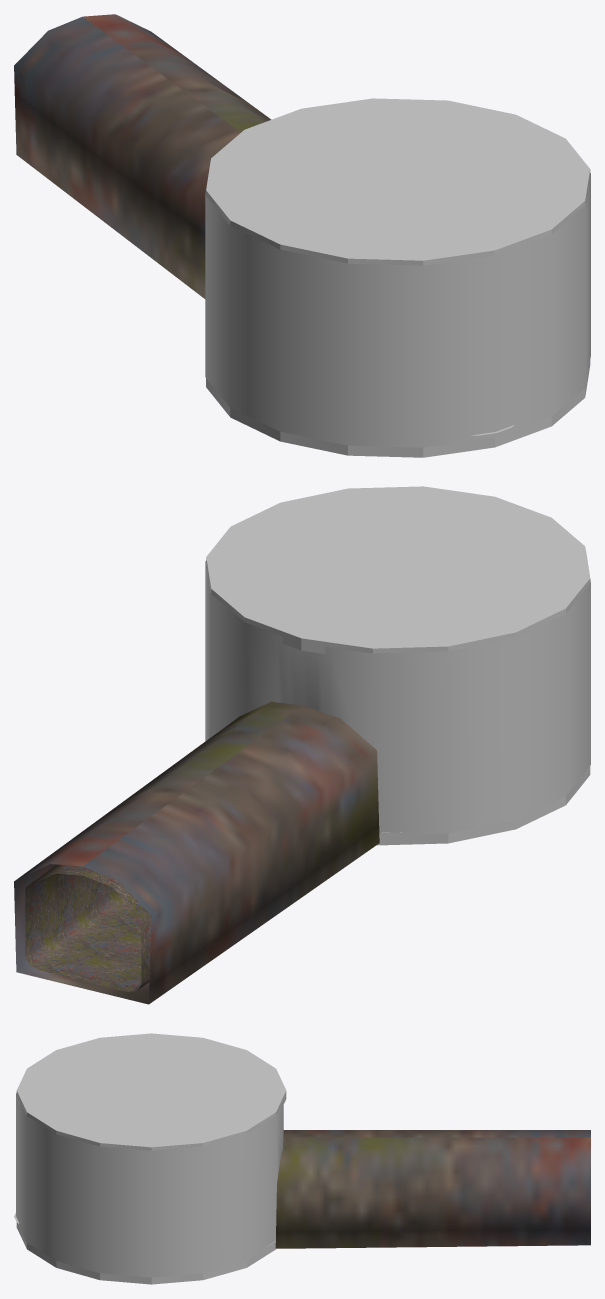
Rendered from Fase Final.fbx.
The picture shows the model from 3 angles, top to bottom: view 1: azimuth 30°, elevation 25°; view 2: azimuth 150°, elevation 25°; view 3: azimuth 270°, elevation 25°; orthographic projection. The views are drawn at different scales.
Visible parts, largest first — view 1: Circle, Circle.003, Circle.002, Circle.001; view 2: Circle.002, Circle, Circle.003, Circle.001; view 3: Circle.002, Circle, Circle.003, Circle.001.
Part boxes in pixels (left/top/right/bottom): Circle: left=205, top=168, right=590, bottom=447; Circle.003: left=206, top=98, right=590, bottom=265; Circle.002: left=14, top=14, right=271, bottom=298; Circle.001: left=206, top=361, right=590, bottom=457; Circle.002: left=14, top=701, right=379, bottom=1004; Circle: left=205, top=554, right=590, bottom=834; Circle.003: left=206, top=486, right=590, bottom=653; Circle.001: left=377, top=766, right=590, bottom=845; Circle.002: left=275, top=1130, right=590, bottom=1248; Circle: left=16, top=1093, right=283, bottom=1277; Circle.003: left=16, top=1033, right=286, bottom=1150; Circle.001: left=16, top=1222, right=275, bottom=1284.
Bounding box in the file's own units: 3367 × 1881 × 7172.
